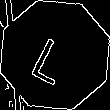L_NE: (30, 26, 80, 84)
